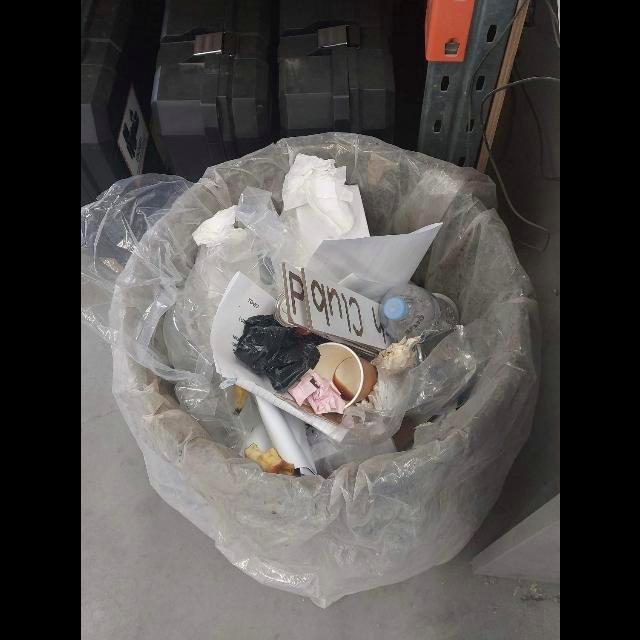aluminum: (273, 290, 299, 328)
cardboard: (282, 263, 387, 357)
left_over_food: (244, 443, 293, 476)
paper: (305, 222, 443, 303), (219, 378, 332, 475), (209, 271, 276, 398), (281, 154, 356, 239), (370, 336, 421, 382)
plastic_bag: (80, 168, 312, 458)
plastic_bottle: (377, 285, 458, 345)
